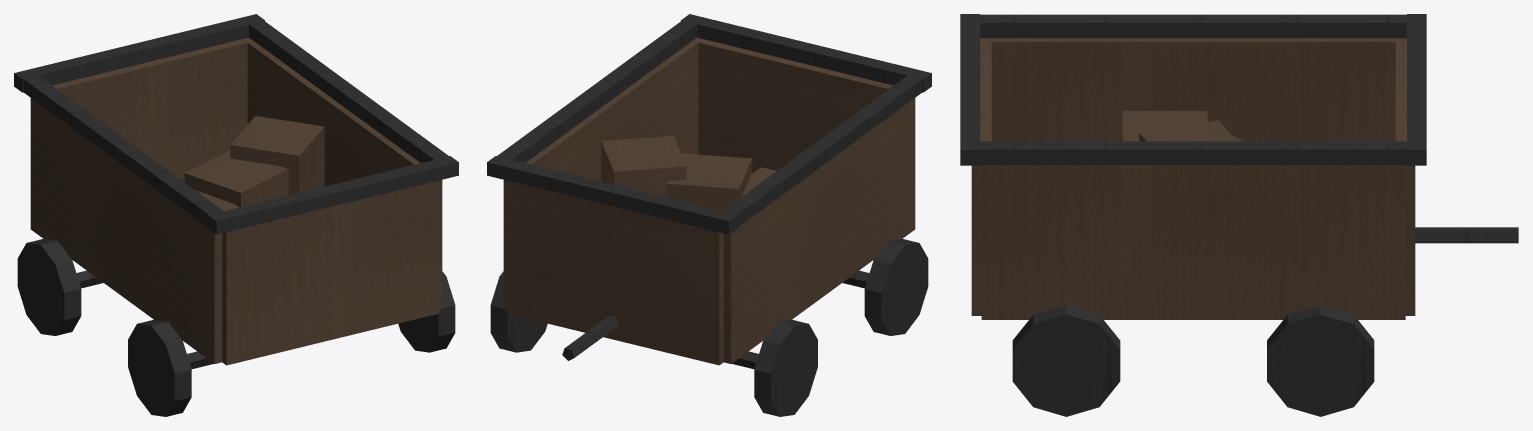
Rendered from mine_cart_01.glb.
3 views of the same model, side by side, from view 1: azimuth 30°, elevation 25°; view 2: azimuth 150°, elevation 25°; view 3: azimuth 270°, elevation 25° (orthographic). The views are drawn at different scales.
Parts seen in each view (by area): view 1: mine_cart_01; view 2: mine_cart_01; view 3: mine_cart_01.
Boxes of the visible parts, x1,y1,x2,y2 form: mine_cart_01: [14, 14, 458, 416]; mine_cart_01: [487, 14, 931, 416]; mine_cart_01: [960, 14, 1518, 416].
Size of the model in its own units: 1.32 by 1 by 1.98.
2 materials, 2 textured.
